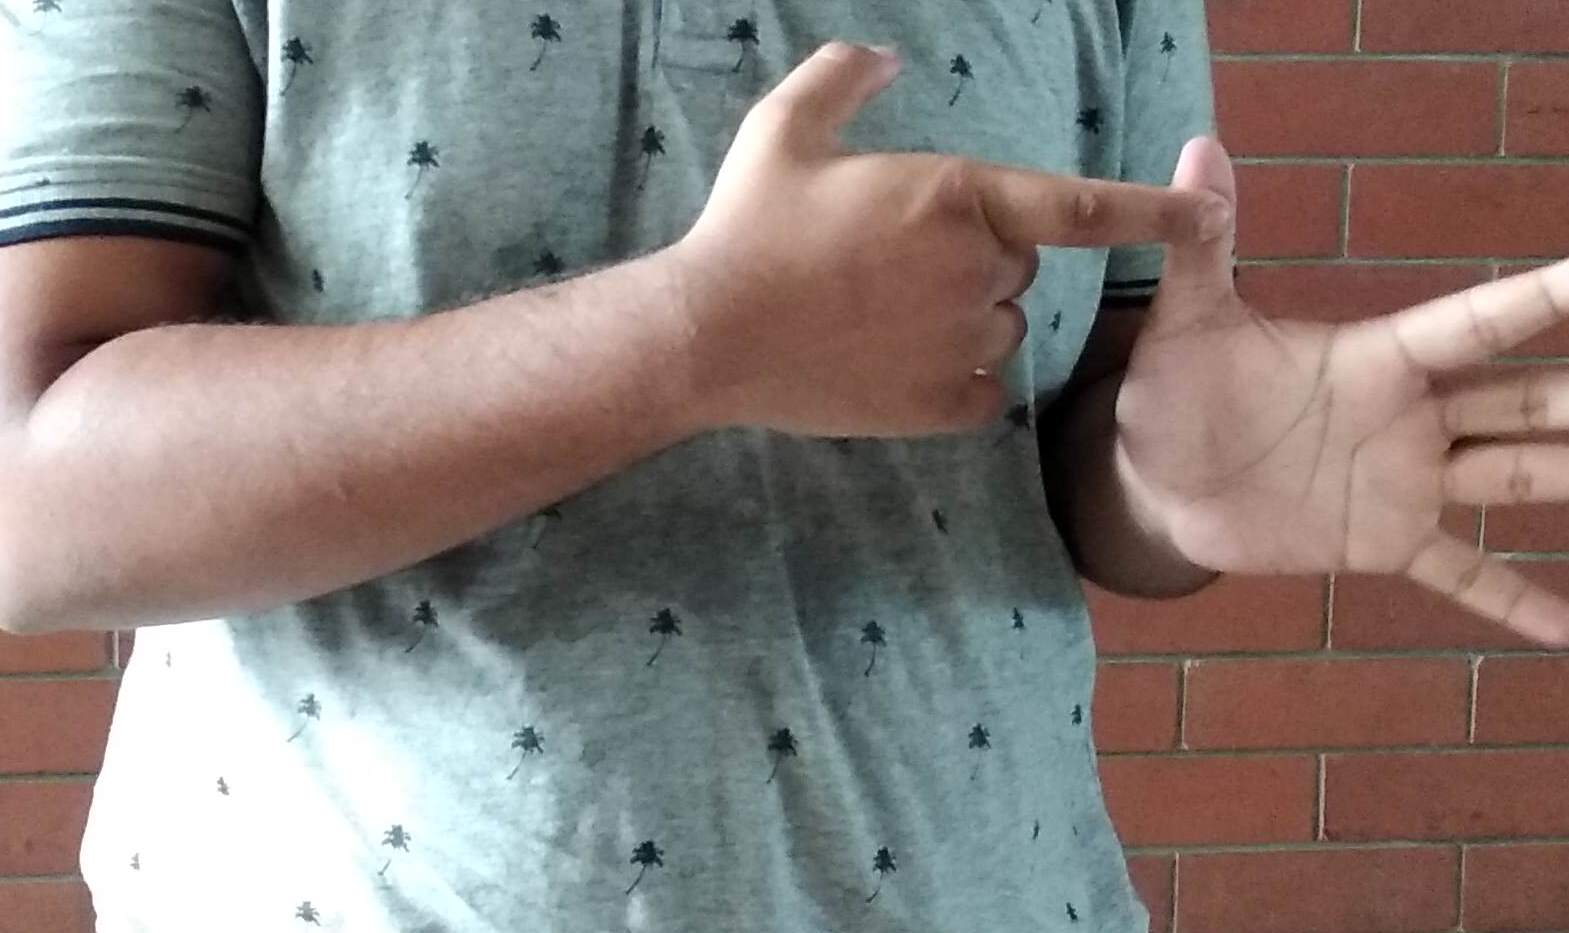a: (777, 22, 1549, 618)
